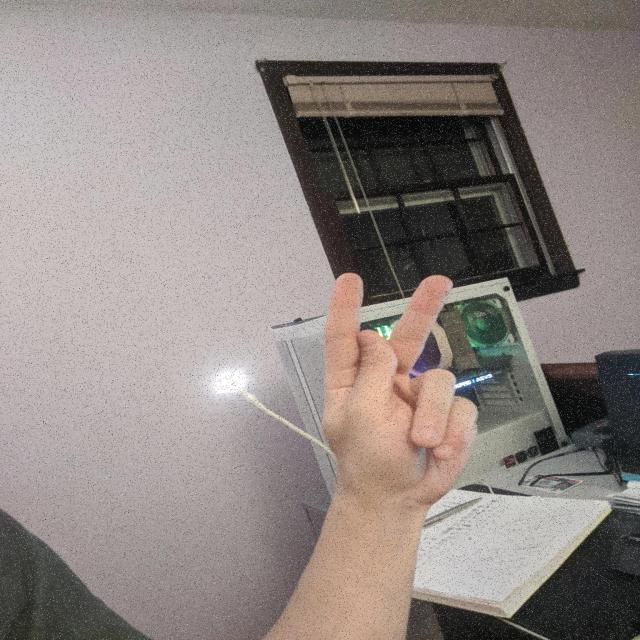K: (308, 267, 490, 517)
